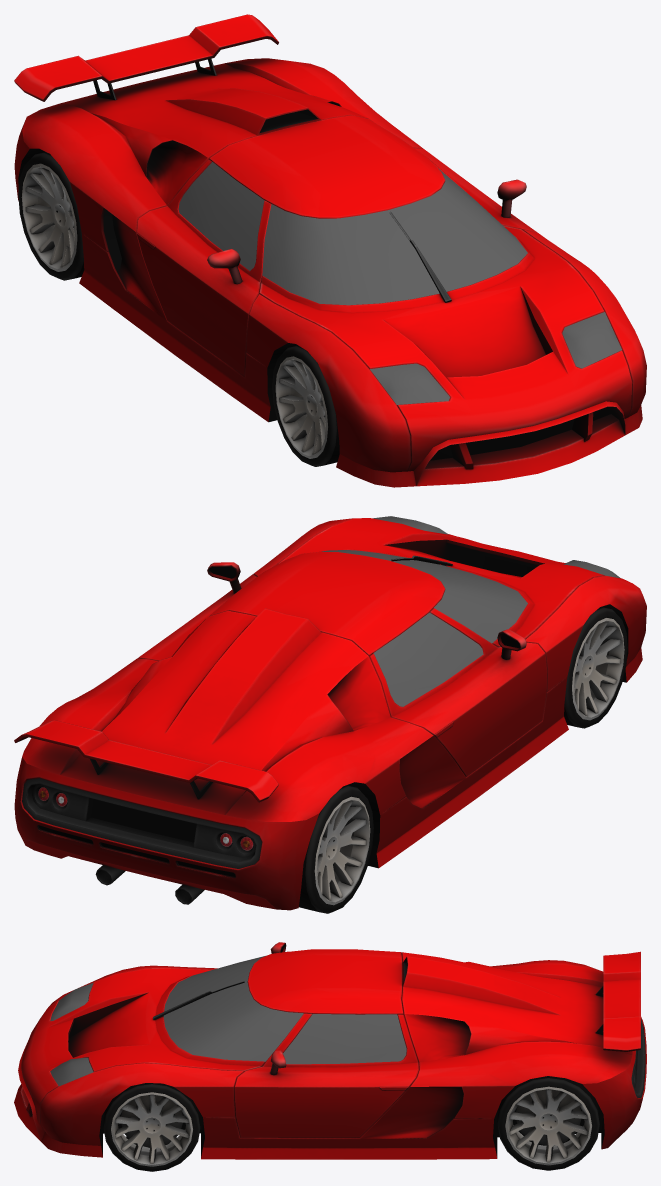
Rendered from sportcar.glb.
3 renders of one model, top to bottom at view 1: azimuth 30°, elevation 25°; view 2: azimuth 150°, elevation 25°; view 3: azimuth 270°, elevation 25°, orthographic. The views are drawn at different scales.
Visible parts, largest first — view 1: Sport body, Wheel_H003, Wheel_H002; view 2: Sport body, Wheel_H003, Wheel_H002; view 3: Sport body, Wheel_H001, Wheel_H.
Boxes of the visible parts, x1,y1,x2,y2 form: Sport body: (14, 14, 646, 487); Wheel_H003: (18, 152, 84, 280); Wheel_H002: (272, 345, 339, 466); Sport body: (14, 516, 646, 910); Wheel_H003: (299, 785, 373, 913); Wheel_H002: (564, 606, 627, 728); Sport body: (14, 942, 646, 1159); Wheel_H001: (497, 1076, 599, 1170); Wheel_H: (103, 1083, 200, 1171).
Size of the model in its own units: 1.99 by 1.17 by 4.4.
4 materials, 3 textured.
